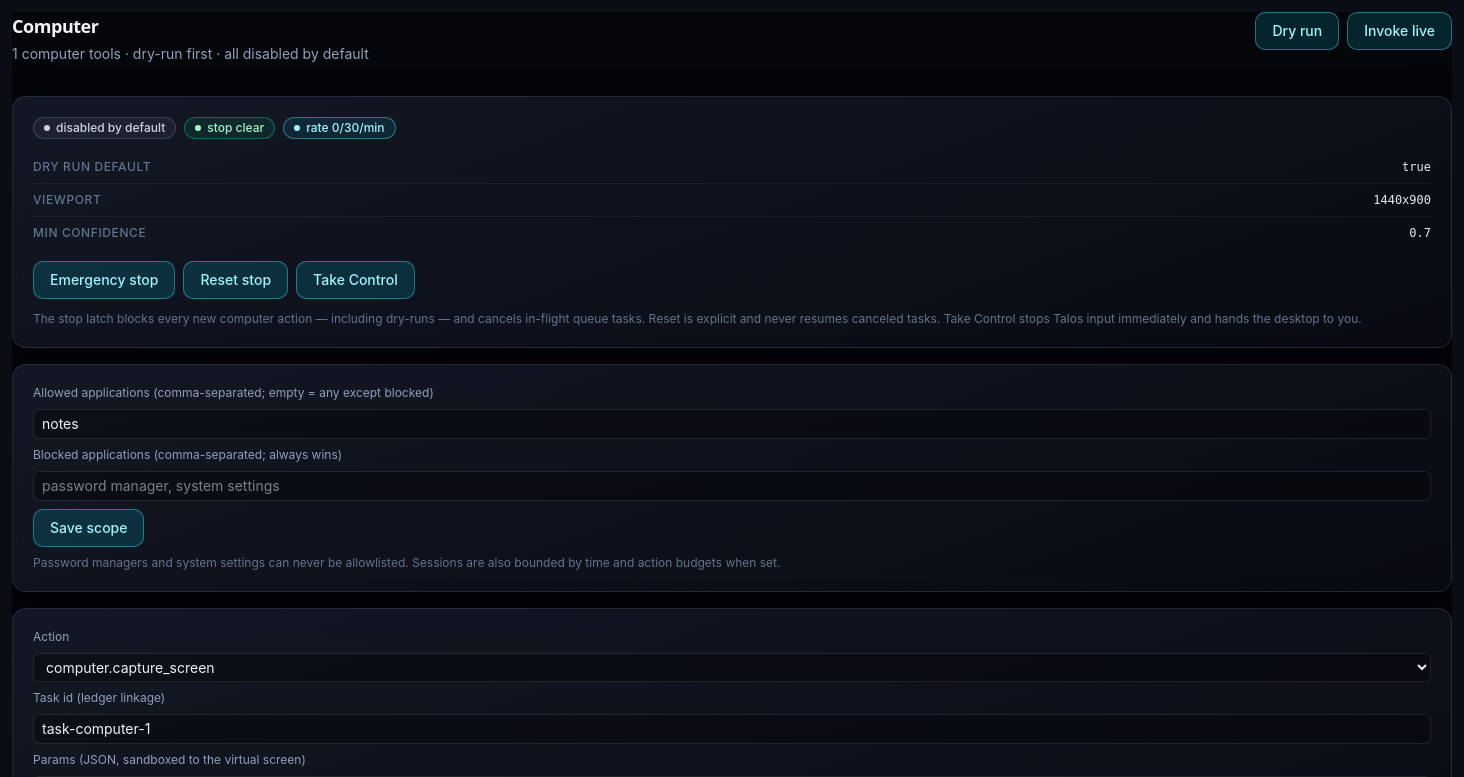
it: Computer live view › saves the application allowlist through the session scope
Replace the text in the field labelled "Allowed applications" with "notes, calculator": point(732, 424) [33,409,1431,439]
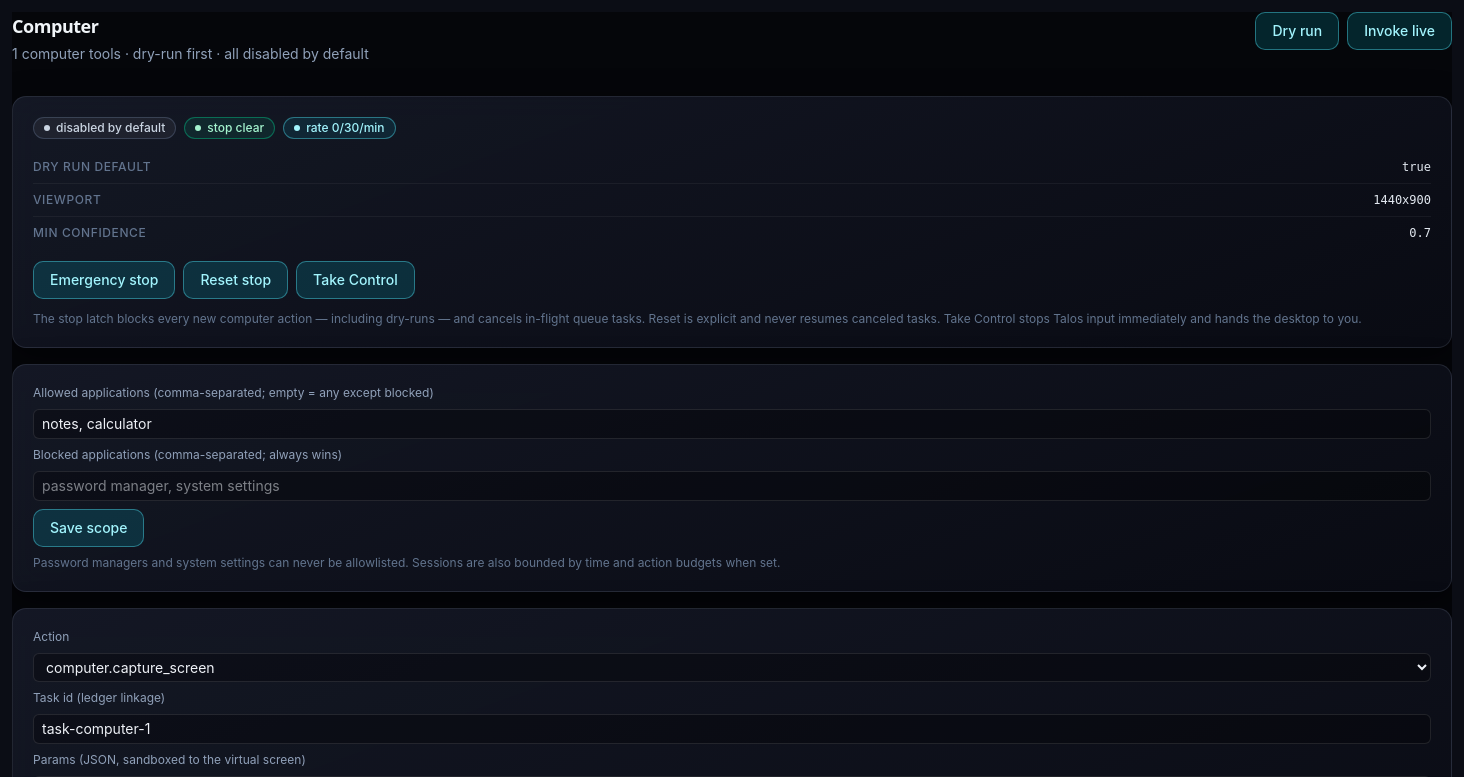
Click the button "Save scope": point(89, 528) [33,509,144,547]
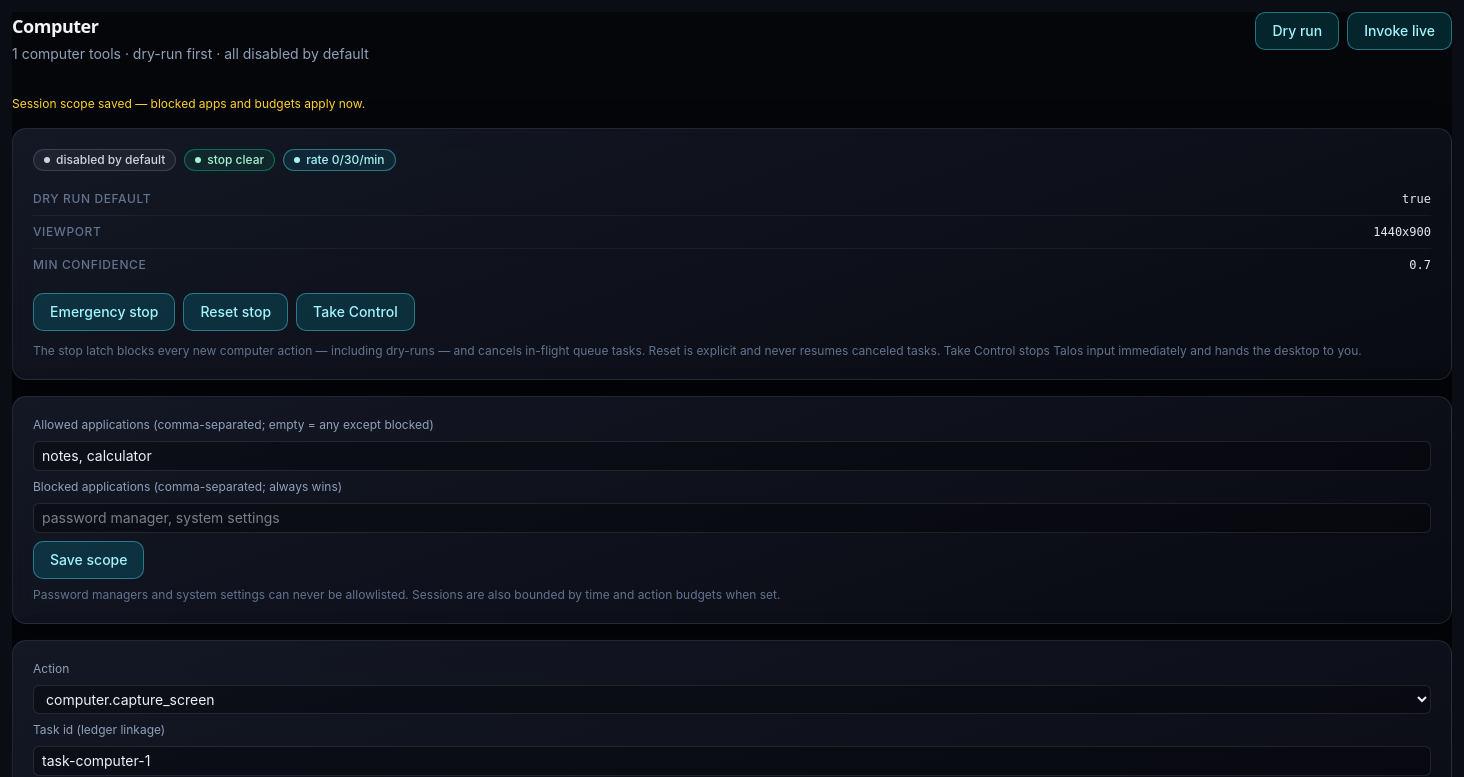
Expected: the text "Session scope saved — blocked apps and budgets apply now." is shown, [12,96,365,111]
